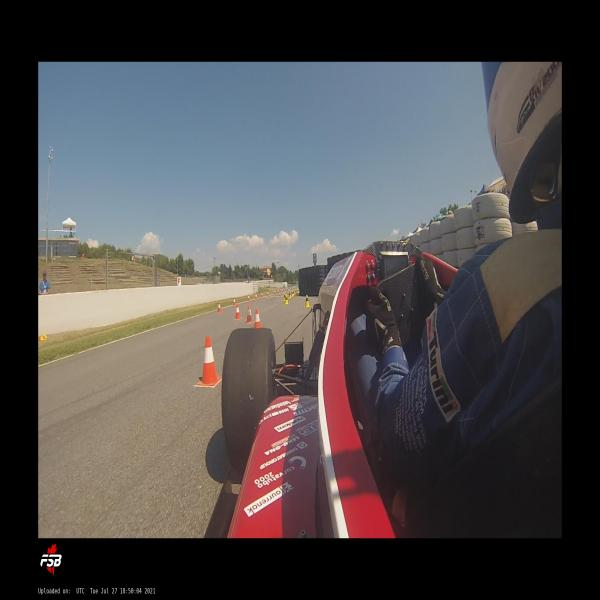orange_cone: (197, 335, 222, 385), (245, 304, 254, 324), (254, 309, 261, 328), (235, 303, 241, 320), (217, 302, 221, 313), (233, 297, 236, 306), (248, 294, 250, 301), (256, 293, 258, 300), (261, 292, 263, 298), (267, 291, 269, 297), (274, 289, 276, 295)
yellow_cone: (304, 294, 311, 307), (284, 294, 288, 304), (283, 292, 286, 301), (291, 289, 293, 297), (289, 291, 291, 298), (293, 289, 295, 295)
